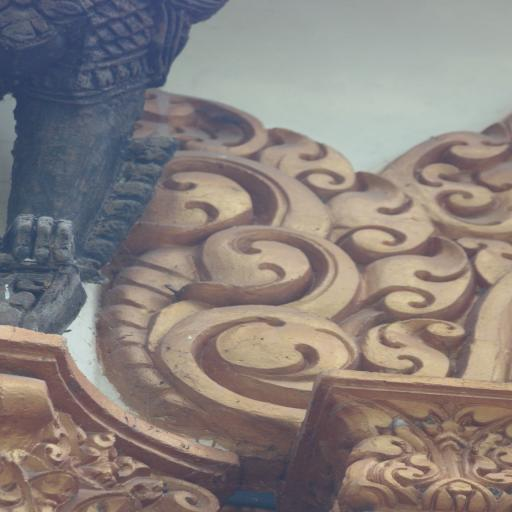lua: (116, 88, 451, 421)
